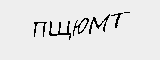М: (88, 12, 110, 36)
П: (30, 19, 49, 41)
Т: (109, 10, 130, 31)
Щ: (48, 17, 72, 41)
Ю: (71, 15, 88, 38)
